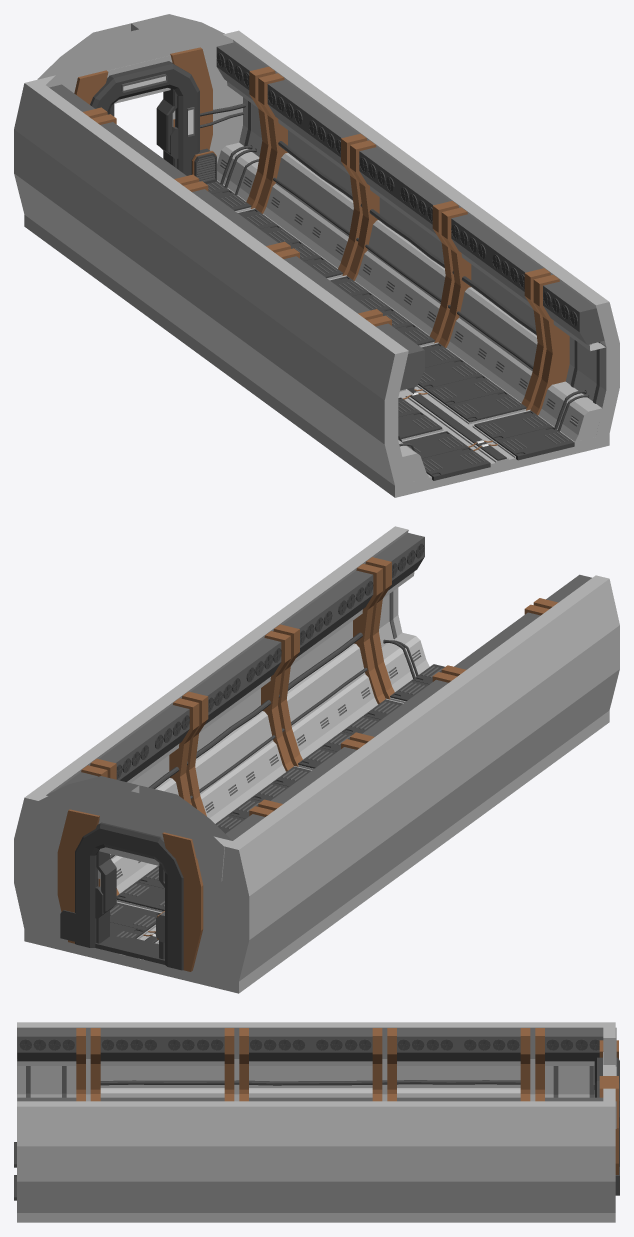
File: Couloir (1).fbx
3 views of the same model, one above another, from view 1: azimuth 30°, elevation 25°; view 2: azimuth 150°, elevation 25°; view 3: azimuth 270°, elevation 25° (orthographic). The views are drawn at different scales.
Parts seen in each view (by area): view 1: Cloison, SurMur, Sol, Cube, Cube.005; view 2: Cloison, SurMur, Cube, Sol, Cube.005; view 3: Cloison, SurMur, Cube.
Part boxes in pixels (x1,y1,x2,y2): Cloison: (21,14,619,497); SurMur: (49,42,605,482); Sol: (206,181,574,480); Cube: (14,30,245,231); Cube.005: (156,89,177,168); Cloison: (32,526,619,987); SurMur: (57,533,591,895); Cube: (14,792,256,993); Sol: (110,664,444,938); Cube.005: (96,850,116,943); Cloison: (17,1022,616,1222); SurMur: (17,1028,603,1101); Cube: (593,1022,619,1222).
Size of the model in its own units: 2666 by 1913 by 7367.
